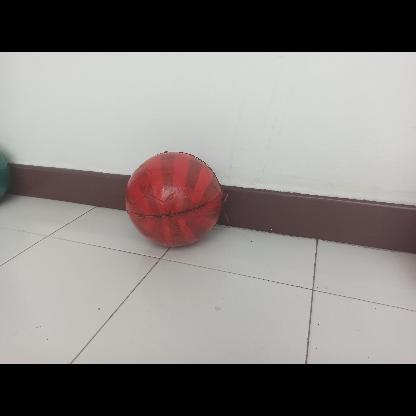red_ball: (124, 151, 220, 247)
